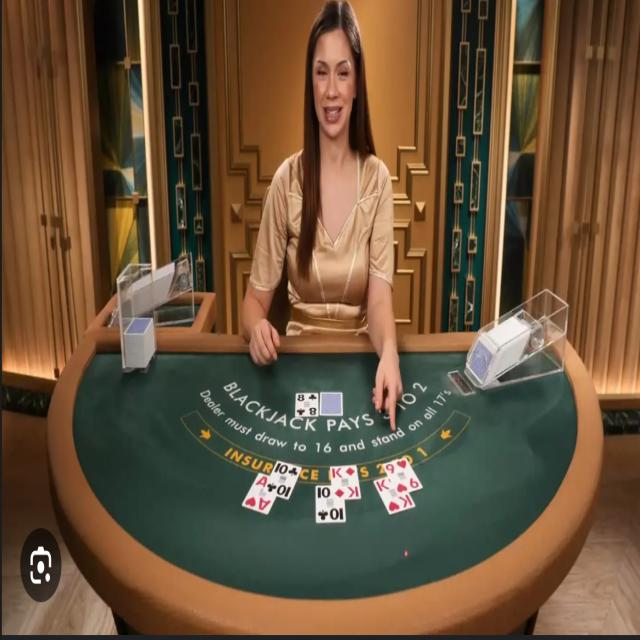Card-10: (265, 460, 302, 500), (316, 485, 345, 522)
Card-8: (295, 392, 319, 416)
Card-9: (383, 456, 422, 491)
Card-A: (242, 472, 276, 516)
Card-K: (374, 475, 415, 514), (330, 464, 361, 498)
